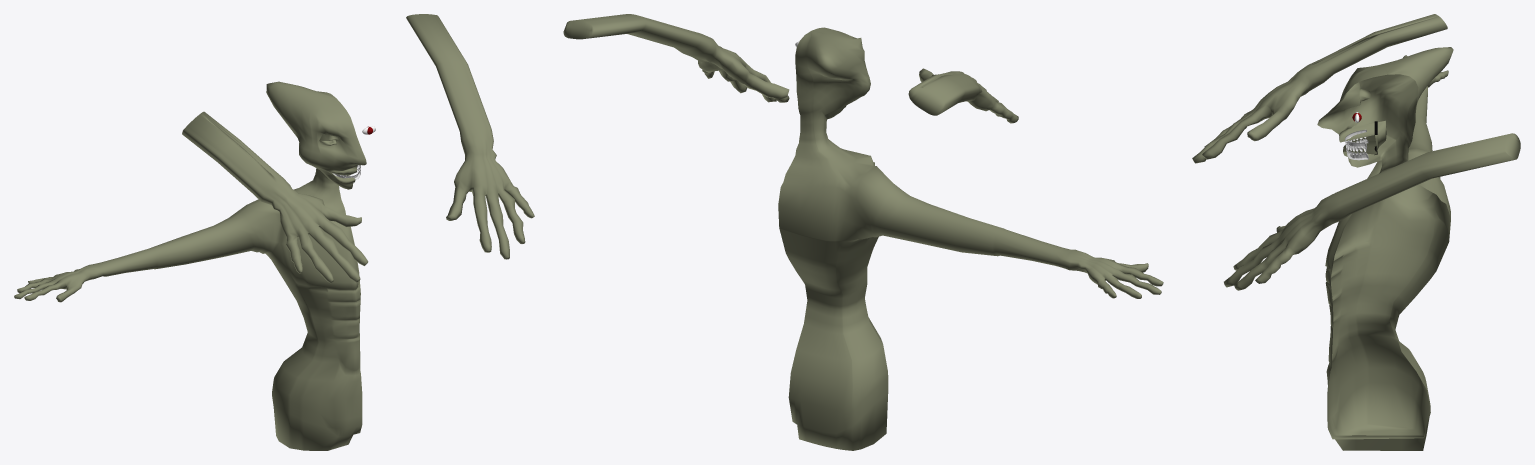
File: frogoblin.glb
The picture shows the model from 3 angles, left to right: view 1: azimuth 30°, elevation 25°; view 2: azimuth 150°, elevation 25°; view 3: azimuth 270°, elevation 25°; orthographic projection. The views are drawn at different scales.
Parts seen in each view (by area): view 1: skin, left, right.002; view 2: skin, left, right.002; view 3: skin, left, right.002.
Part boxes in pixels (x1=…): skin: x1=14, y1=81, x2=366, y2=450; left: x1=406, y1=14, x2=534, y2=259; right.002: x1=182, y1=111, x2=368, y2=283; skin: x1=778, y1=27, x2=1163, y2=450; left: x1=563, y1=14, x2=789, y2=102; right.002: x1=908, y1=68, x2=1018, y2=123; skin: x1=1317, y1=47, x2=1453, y2=450; left: x1=1224, y1=133, x2=1520, y2=290; right.002: x1=1192, y1=14, x2=1447, y2=163.
Bounding box in the file's own units: 13.37 × 9.56 × 7.19.
